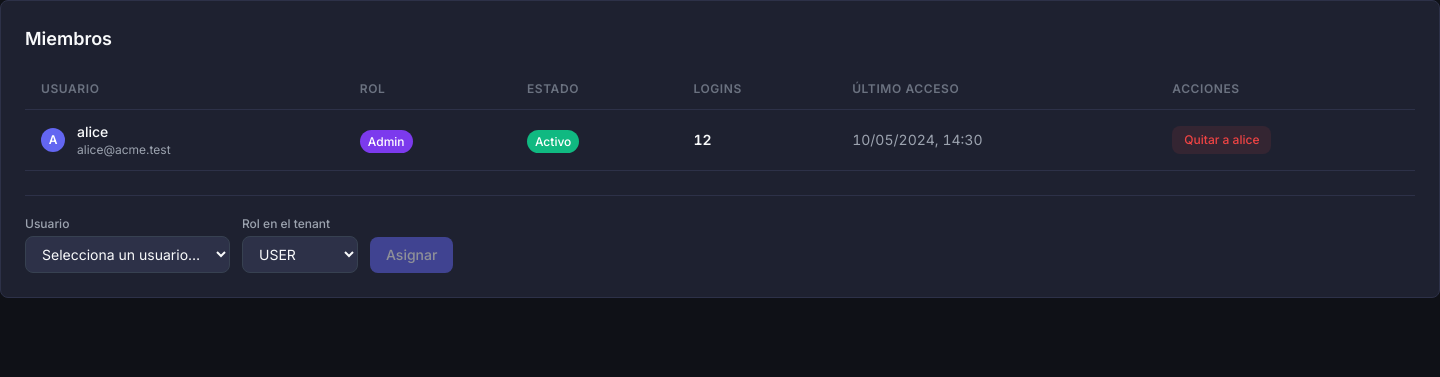
Test: TenantMembers — baja (DELETE) › con un DELETE fallido debería mostrar el error y conservar al miembro
Click the button "Quitar a alice". click: (1222,140)
box: left=1172, top=126, right=1271, bottom=154
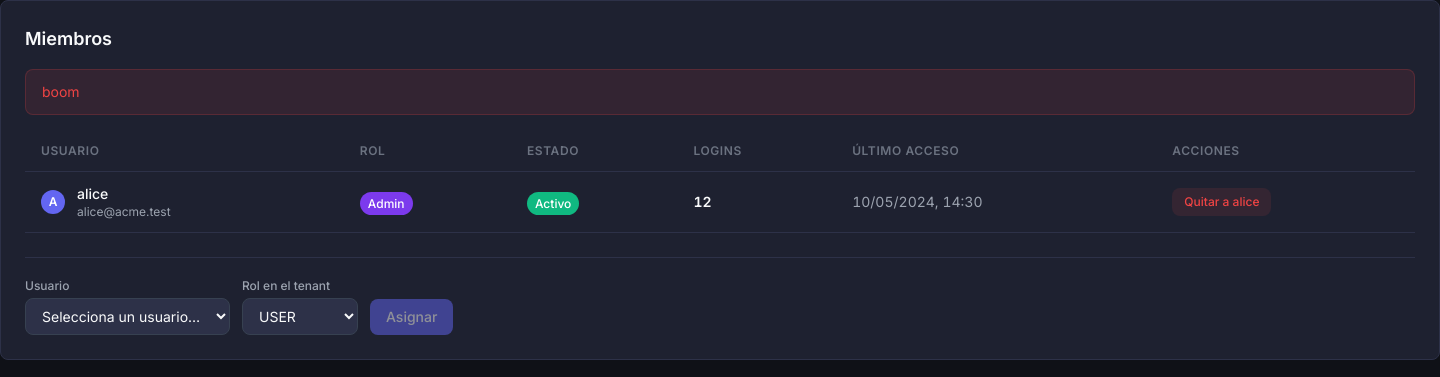
Expected: the text "alice" is shown, left=77, top=185, right=108, bottom=202
Expected: the text "boom" is shown, left=25, top=69, right=1415, bottom=115
